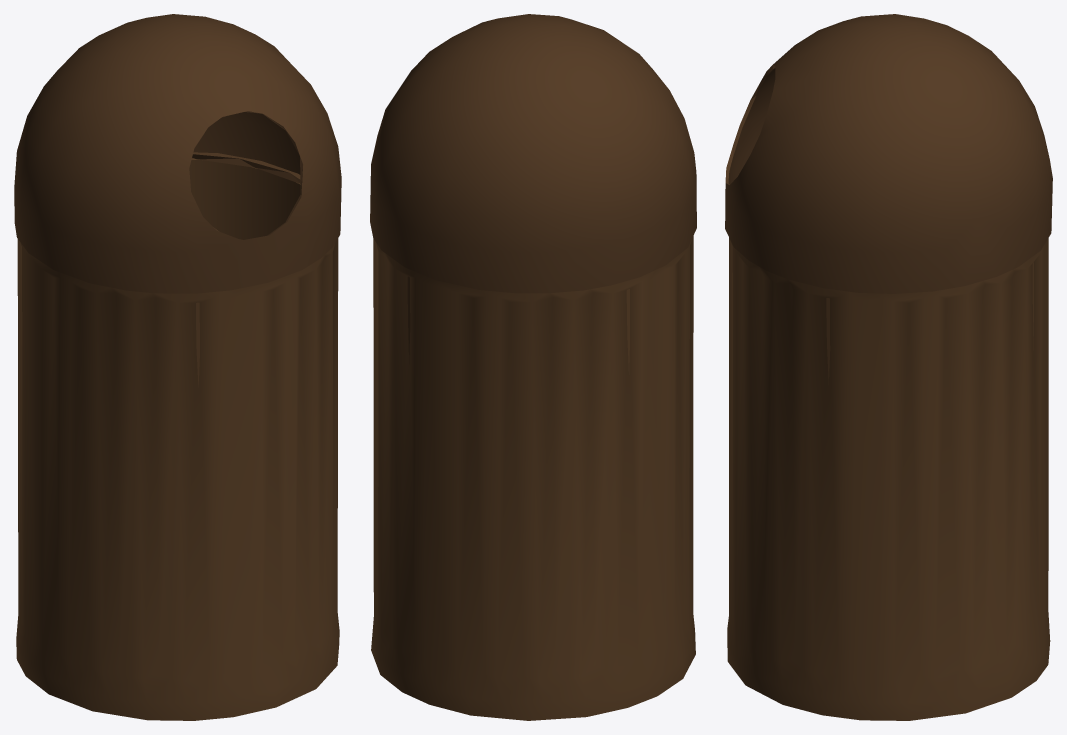
Rendered from parktrash.glb.
3 views of the same model, side by side, from view 1: azimuth 30°, elevation 25°; view 2: azimuth 150°, elevation 25°; view 3: azimuth 270°, elevation 25° (orthographic).
Parts seen in each view (by area): view 1: bin; view 2: bin; view 3: bin.
Boxes of the visible parts, x1,y1,x2,y2 form: bin: (14, 14, 341, 720); bin: (370, 14, 696, 720); bin: (725, 14, 1052, 720).
Size of the model in its own units: 0.5007 by 1.05 by 0.5.
